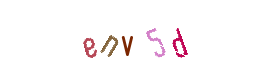5: (105, 0, 185, 80)
D: (139, 0, 219, 80)
E: (62, 0, 142, 80)
N: (87, 0, 167, 80)
V: (92, 0, 172, 80)
